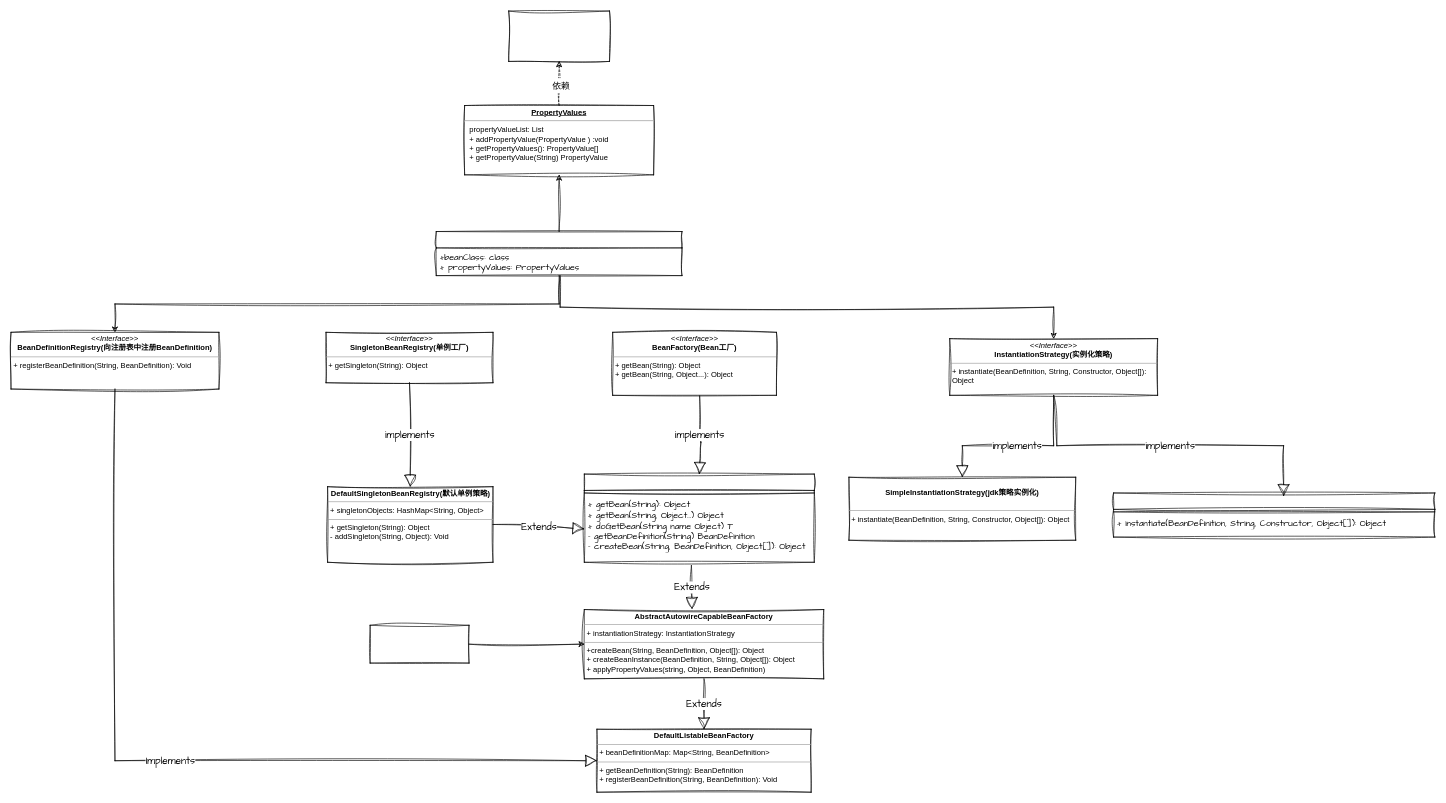
This 1446x803 diagram has some shape labels left out. The box of each missing label's shape, as (x1, y1, x2, y2) in pixels:
AbstractBeanFactory(抽象工厂规定模板): (584, 473, 814, 562)
BeanDefinition(底层基类): (436, 231, 682, 276)
BeanReference + beanName: String: (369, 625, 469, 663)
CglibSubclassingInstantionStrategy(cglib策略实例化): (1113, 492, 1435, 537)
PropertyValue name: String value: Object: (508, 10, 610, 61)
